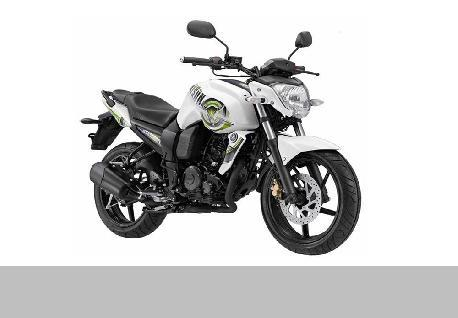motorbike: (80, 18, 361, 256)
